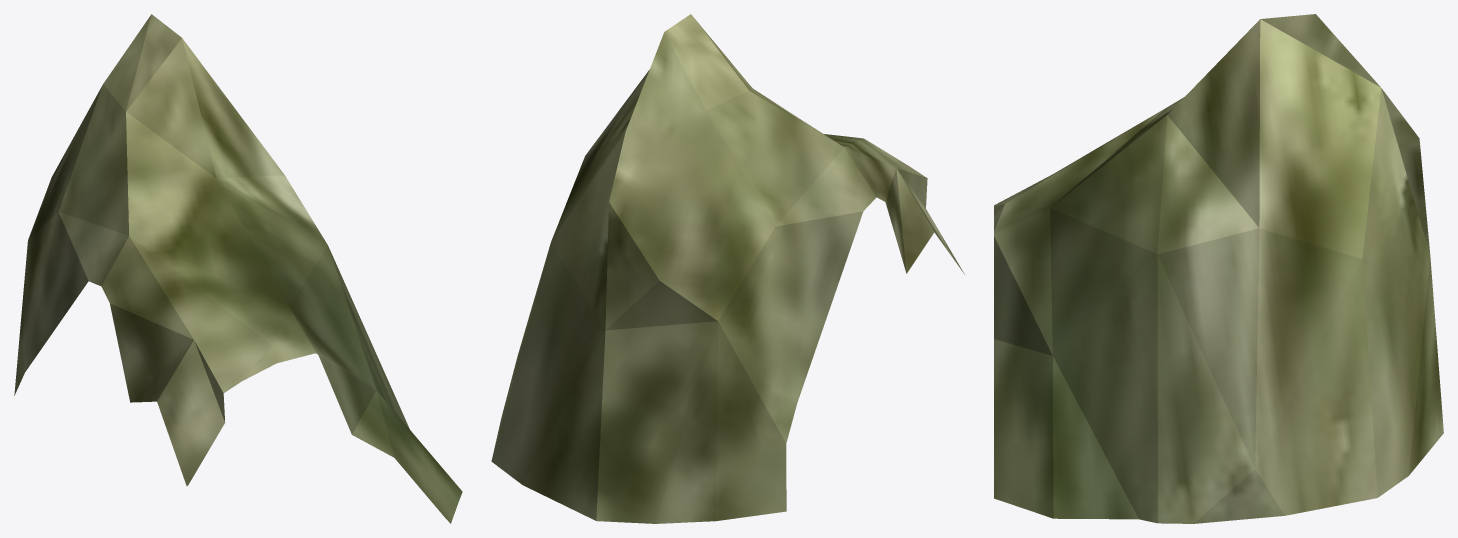
3 views of the same model, side by side, from view 1: azimuth 30°, elevation 25°; view 2: azimuth 150°, elevation 25°; view 3: azimuth 270°, elevation 25° (orthographic). The views are drawn at different scales.
Size of the model in its own units: 0.5284 by 0.6765 by 0.6585.
1 material, 1 textured.
